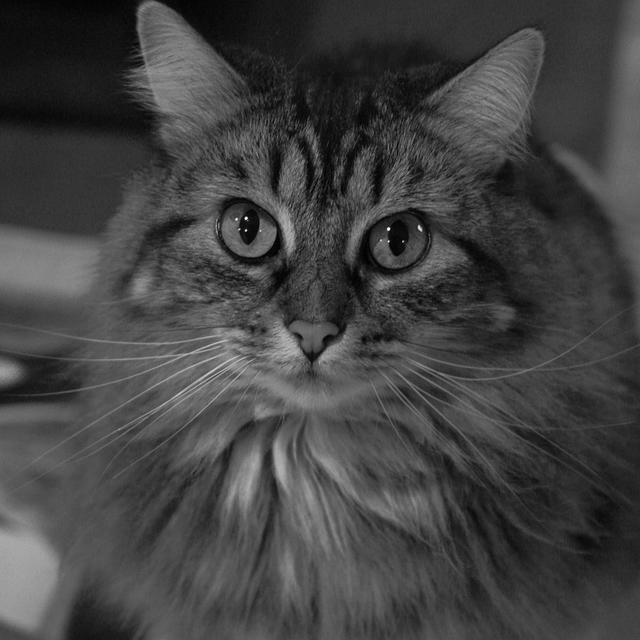animals: (148, 3, 536, 358)
